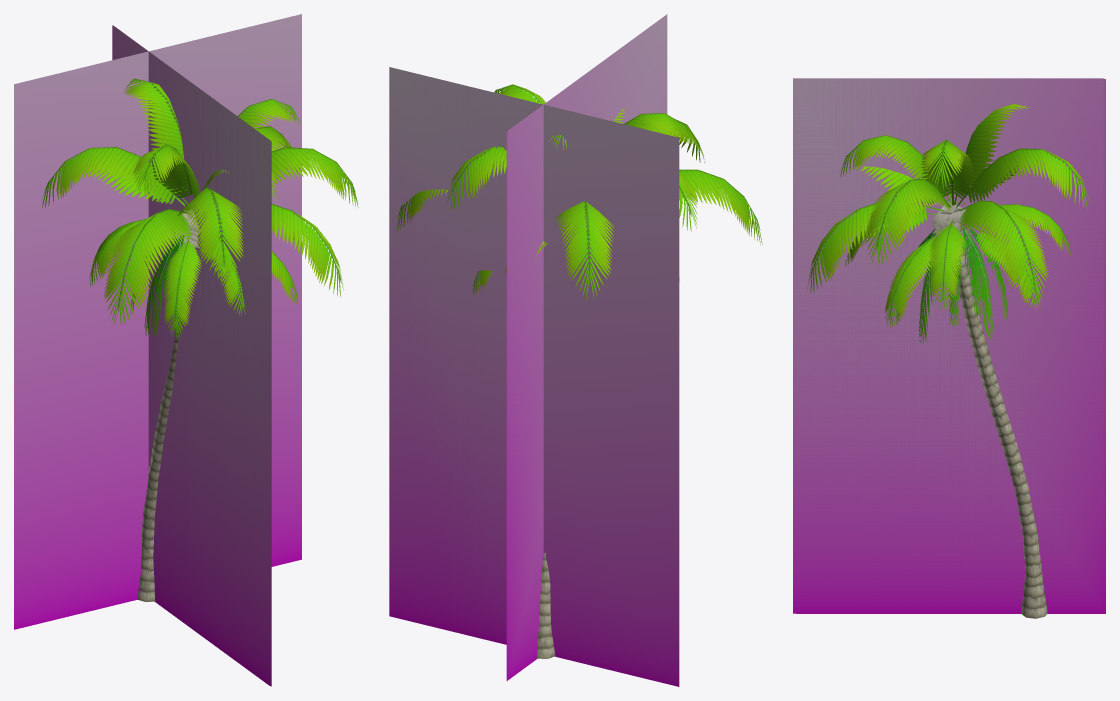
Rendered from FAE_Palm_B.fbx.
The picture shows the model from 3 angles, left to right: view 1: azimuth 30°, elevation 25°; view 2: azimuth 150°, elevation 25°; view 3: azimuth 270°, elevation 25°; orthographic projection. The views are drawn at different scales.
Parts seen in each view (by area): view 1: FAE_Palm_B_Billboard, FAE_Palm_B_LOD0; view 2: FAE_Palm_B_Billboard, FAE_Palm_B_LOD0; view 3: FAE_Palm_B_Billboard, FAE_Palm_B_LOD0.
Part boxes in pixels (left/top/right/bottom): FAE_Palm_B_Billboard: left=14, top=14, right=301, bottom=686; FAE_Palm_B_LOD0: left=42, top=78, right=358, bottom=601; FAE_Palm_B_Billboard: left=389, top=14, right=679, bottom=686; FAE_Palm_B_LOD0: left=395, top=84, right=762, bottom=658; FAE_Palm_B_Billboard: left=793, top=78, right=1105, bottom=613; FAE_Palm_B_LOD0: left=807, top=104, right=1089, bottom=618.
Size of what is drawn, in the model's own units: 1282 by 2323 by 1230.
3 materials, 2 textured.
